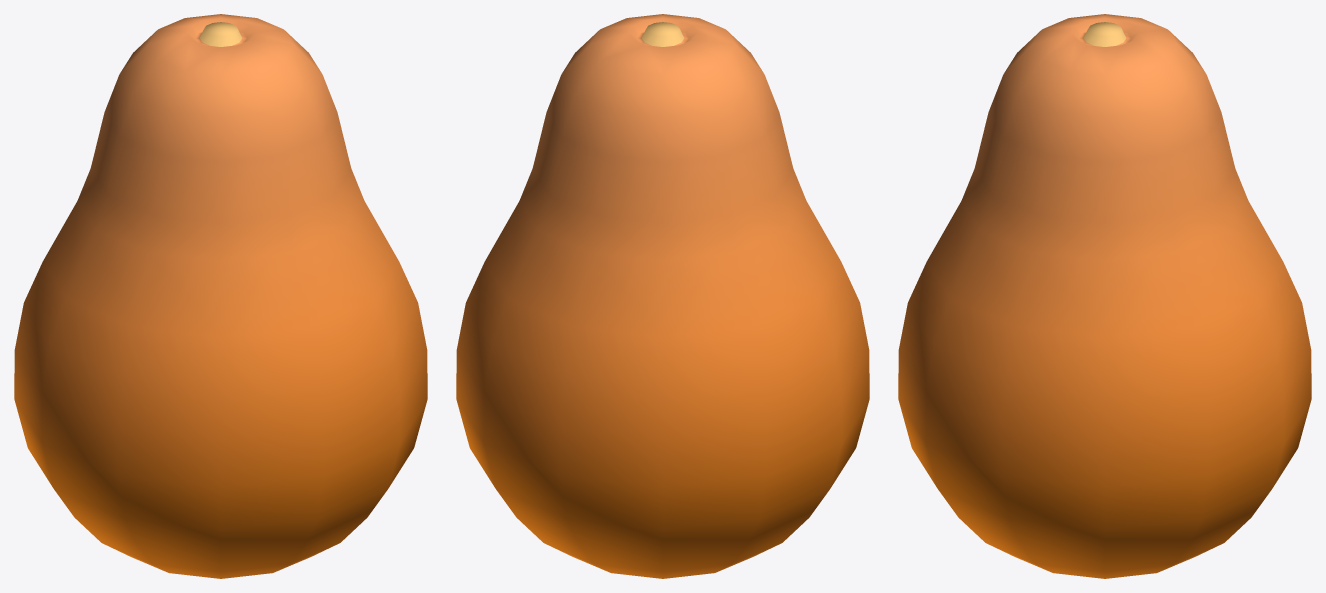
File: Avokado.fbx
The picture shows the model from 3 angles, left to right: view 1: azimuth 30°, elevation 25°; view 2: azimuth 150°, elevation 25°; view 3: azimuth 270°, elevation 25°; orthographic projection.
Parts seen in each view (by area): view 1: Avokado; view 2: Avokado; view 3: Avokado.
Part boxes in pixels (x1,y1,x2,y2): Avokado: (14,14,427,578); Avokado: (456,14,869,578); Avokado: (898,14,1311,578).
Size of the model in its own units: 80.27 by 114 by 80.27.
